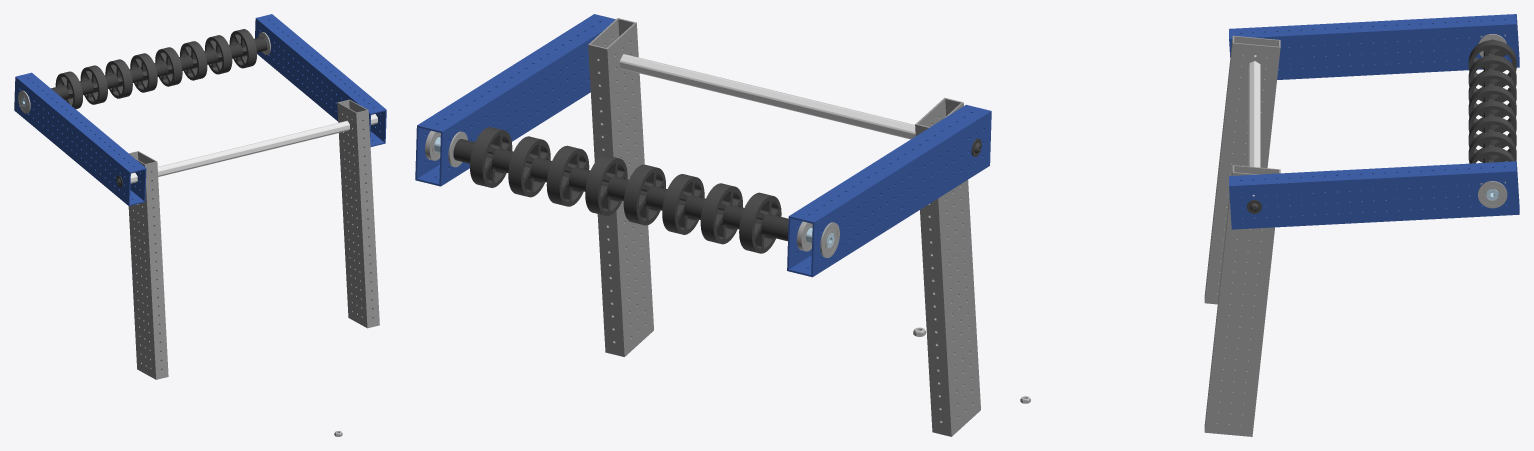
3 views of the same model, side by side, from view 1: azimuth 30°, elevation 25°; view 2: azimuth 150°, elevation 25°; view 3: azimuth 270°, elevation 25° (orthographic). The views are drawn at different scales.
Visible parts, largest first — view 1: Tube 2"x0.75"x12" (×2), Tube 2"x1"x12" (×2), 2" 1/2" Hex Bore Flex Wheel (WCP-0133) (×8), 1/2" ThunderHex (15.501 in); view 2: Tube 2"x0.75"x12" (×2), Tube 2"x1"x12" (×2), 2" 1/2" Hex Bore Flex Wheel (WCP-0133) (×8), 1/2" ThunderHex (15.501 in); view 3: Tube 2"x1"x12" (×2), Tube 2"x0.75"x12" (×2), 2" 1/2" Hex Bore Flex Wheel (WCP-0133) (×8), 1/2" ThunderHex (15.501 in), 1/2" ThunderHex x 1-1/8" OD (Flanged).
Part boxes in pixels (<box>): Tube 2"x0.75"x12" (×2): <box>128,99,379,379</box>; Tube 2"x1"x12" (×2): <box>14,14,386,205</box>; 2" 1/2" Hex Bore Flex Wheel (WCP-0133) (×8): <box>55,29,256,109</box>; 1/2" ThunderHex (15.501 in): <box>130,114,377,183</box>; Tube 2"x0.75"x12" (×2): <box>588,18,980,436</box>; Tube 2"x1"x12" (×2): <box>415,14,991,277</box>; 2" 1/2" Hex Bore Flex Wheel (WCP-0133) (×8): <box>470,127,781,253</box>; 1/2" ThunderHex (15.501 in): <box>619,54,915,139</box>; Tube 2"x1"x12" (×2): <box>1229,14,1519,229</box>; Tube 2"x0.75"x12" (×2): <box>1204,35,1280,436</box>; 2" 1/2" Hex Bore Flex Wheel (WCP-0133) (×8): <box>1468,40,1516,163</box>; 1/2" ThunderHex (15.501 in): <box>1248,55,1260,196</box>; 1/2" ThunderHex x 1-1/8" OD (Flanged): <box>1478,181,1507,208</box>.
Size of the model in its own units: 0.4009 by 0.3614 by 0.5277.
